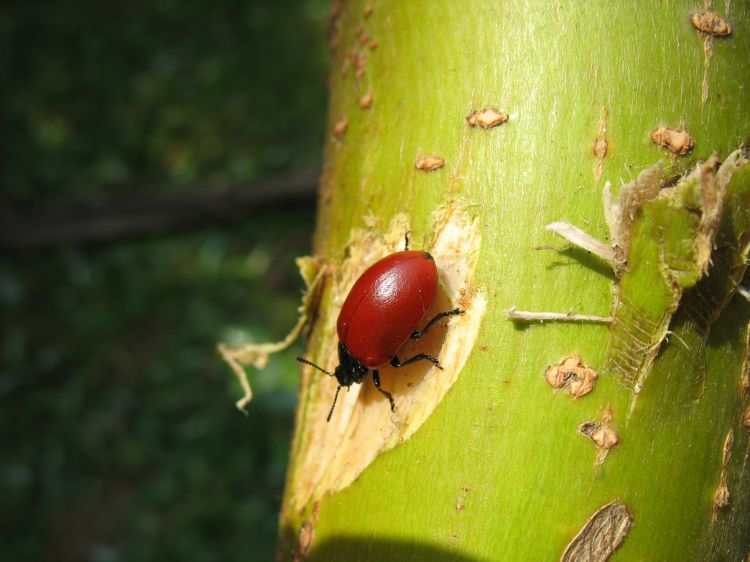Chrysomela_populi: (294, 227, 467, 424)
